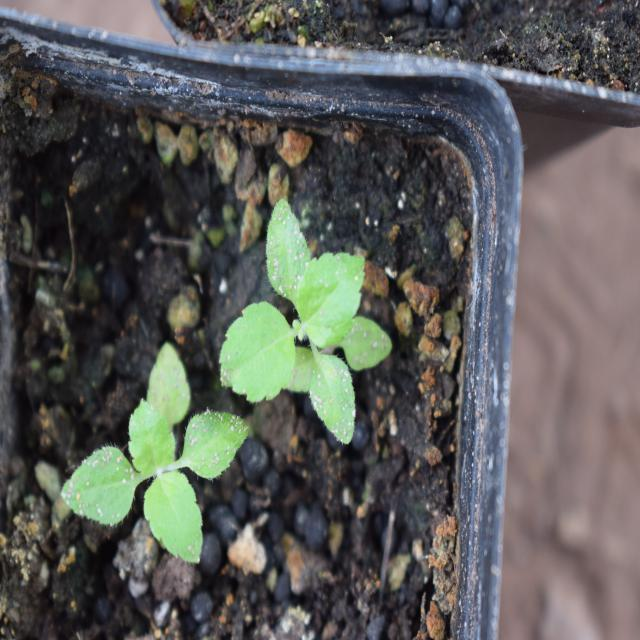billygoat_weed: (218, 188, 400, 456), (60, 382, 244, 544)
